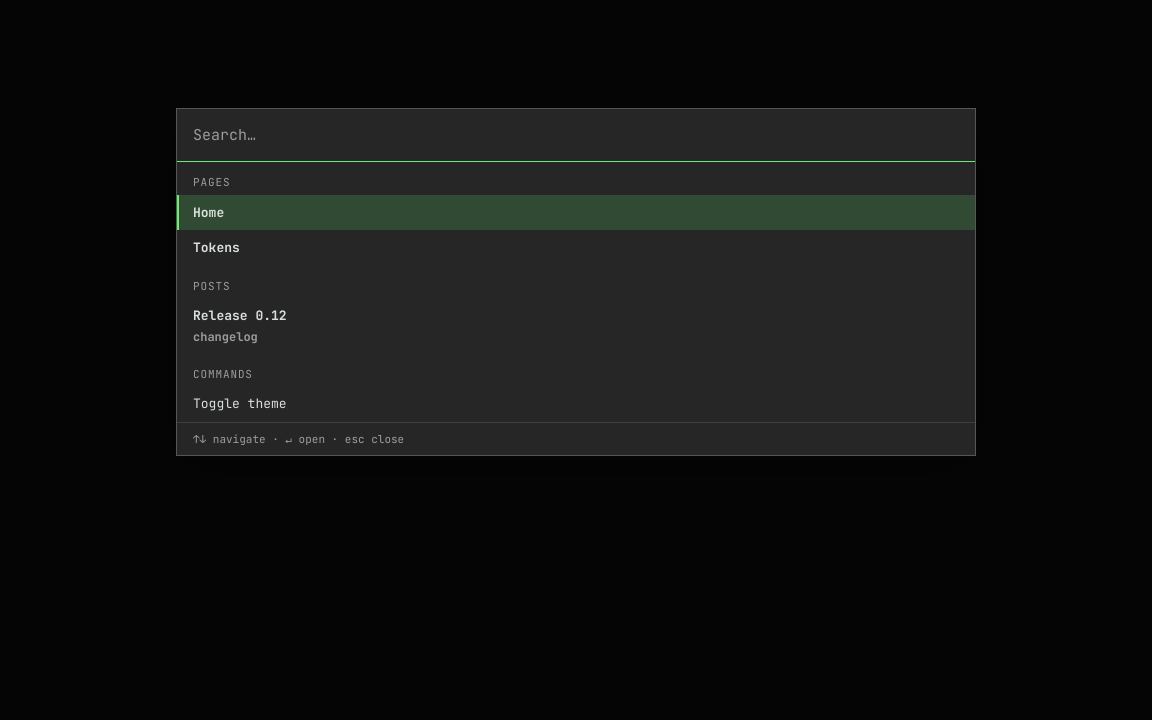
Test: SearchPalette — combobox wiring › drops aria-activedescendant when there are no results
Type "zzz-no-hit" into the dropdown with placeholder "Search…" at (576, 136), box [177,109,975,162]
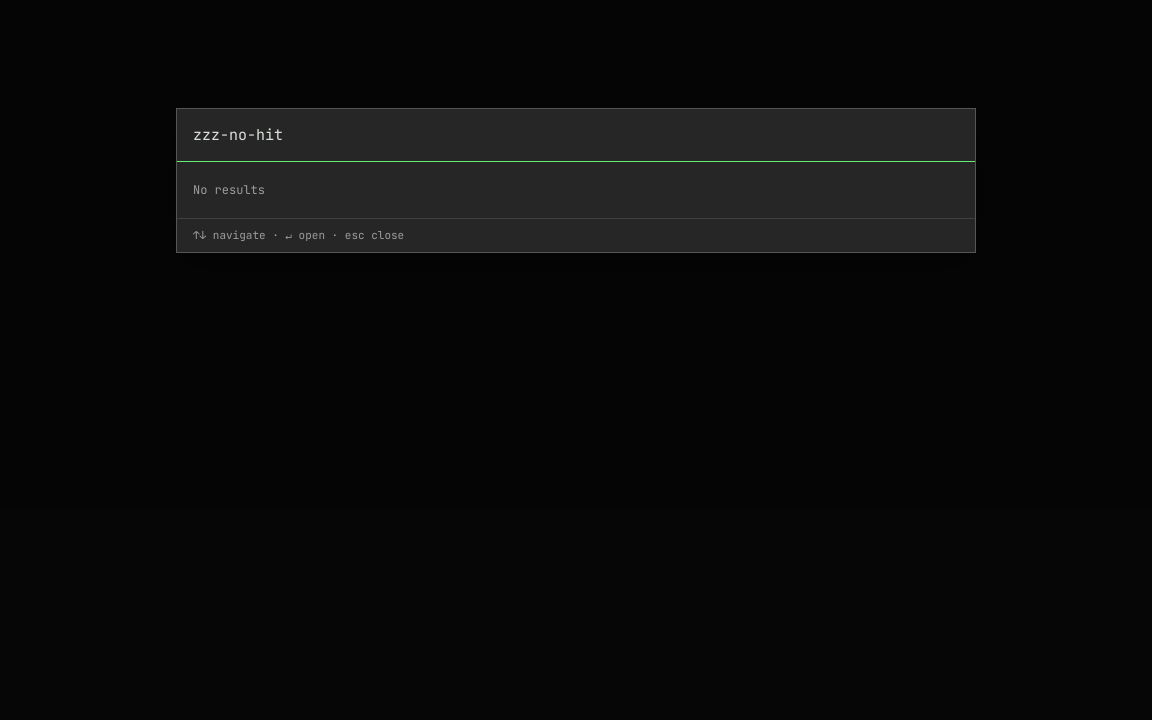
Expected: the dropdown named "Search" is collapsed, [177,109,975,162]
